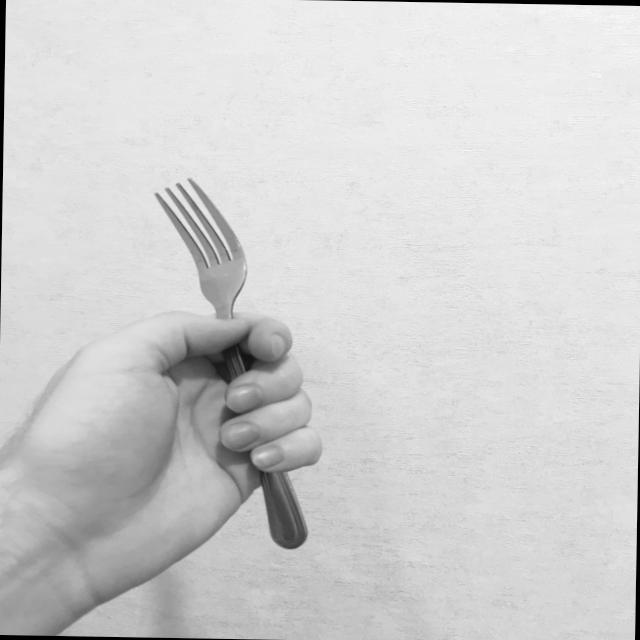fork: (146, 177, 316, 550)
